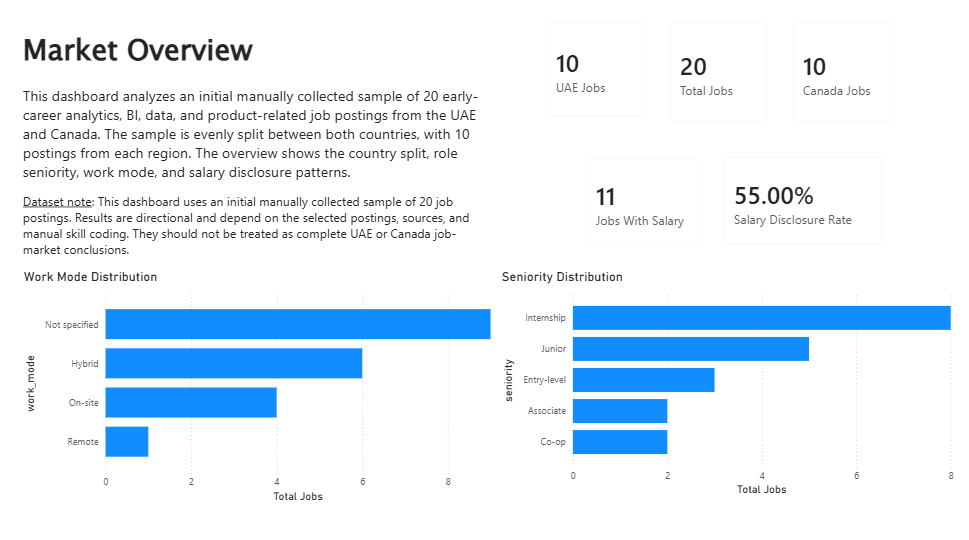

This screenshot's page, from the dashboard's own definition file:
{"tool":"powerbi","page":{"name":"Market Overview","canvas":[1280,720],"ordinal":0},"visuals":[{"type":"cardVisual","fields":{"Data":["Jobs.Total Jobs"]},"box":[866.1,20,161.7,165],"z":0},{"type":"cardVisual","fields":{"Data":["Jobs.UAE Jobs"]},"box":[704.5,20,161.7,158.3],"z":1000},{"type":"cardVisual","fields":{"Data":["Jobs.Canada Jobs"]},"box":[1027.8,20,163.3,165],"z":2000},{"type":"clusteredBarChart","title":"Seniority Distribution","fields":{"Category":["Jobs.seniority"],"Y":["Jobs.Total Jobs"]},"box":[658.3,360,601.7,301.7],"z":3000},{"type":"clusteredBarChart","title":"Work Mode Distribution","fields":{"Category":["Jobs.work_mode"],"Y":["Jobs.Total Jobs"]},"box":[33.3,360,625,310],"z":4000},{"type":"textbox","box":[31.4,40,638.6,215.7],"z":5000},{"type":"textbox","box":[31.4,255.7,595.7,104.3],"z":6000},{"type":"cardVisual","fields":{"Data":["Jobs.Jobs With Salary"]},"box":[757.1,197.1,180,150],"z":7000},{"type":"cardVisual","fields":{"Data":["Jobs.Salary Disclosure Rate"]},"box":[937,197,241,149],"z":8000}]}

Visuals, with their boxes in screenshot pixels (x1, y1, x2, y2), scaled from the page's 1280x720 canvas onto the 969x540 screenshot:
cardVisual - Jobs.Total Jobs: detection(656, 15, 778, 139)
cardVisual - Jobs.UAE Jobs: detection(533, 15, 656, 134)
cardVisual - Jobs.Canada Jobs: detection(778, 15, 902, 139)
"Seniority Distribution" clusteredBarChart: detection(498, 270, 954, 496)
"Work Mode Distribution" clusteredBarChart: detection(25, 270, 498, 502)
textbox: detection(24, 30, 507, 192)
textbox: detection(24, 192, 475, 270)
cardVisual - Jobs.Jobs With Salary: detection(573, 148, 709, 260)
cardVisual - Jobs.Salary Disclosure Rate: detection(709, 148, 892, 260)
